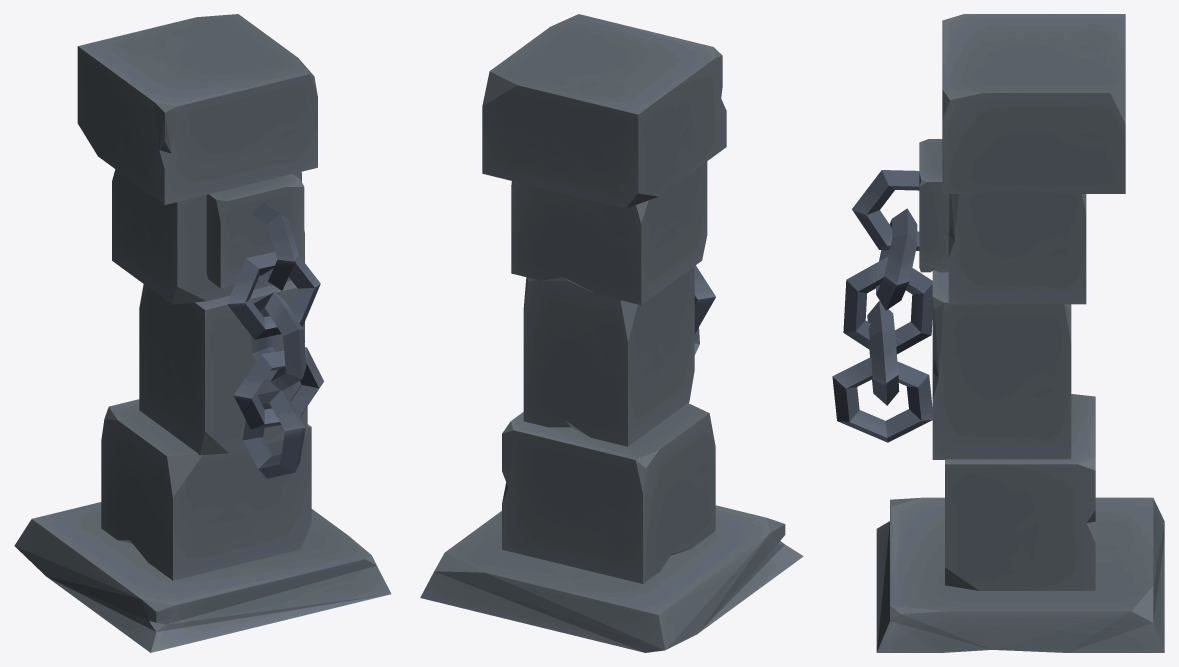
File: Pillar1B-008_02_19_4686.fbx
3 views of the same model, side by side, from view 1: azimuth 30°, elevation 25°; view 2: azimuth 150°, elevation 25°; view 3: azimuth 270°, elevation 25° (orthographic). The views are drawn at different scales.
Visible parts, largest first — view 1: 1B_Pillar, ChainLink (1), ChainLink (4), ChainLink (3), ChainLink (2), ChainLink; view 2: 1B_Pillar, ChainLink (3); view 3: 1B_Pillar, ChainLink (4), ChainLink (2), ChainLink, ChainLink (1), ChainLink (3).
Boxes of the visible parts, x1,y1,x2,y2 form: 1B_Pillar: (14, 14, 391, 652); ChainLink (1): (227, 252, 320, 339); ChainLink (4): (242, 390, 305, 478); ChainLink (3): (233, 347, 323, 429); ChainLink (2): (250, 292, 306, 390); ChainLink: (252, 202, 298, 290); 1B_Pillar: (420, 14, 803, 652); ChainLink (3): (694, 265, 715, 333); 1B_Pillar: (876, 14, 1164, 652); ChainLink (4): (832, 357, 932, 442); ChainLink (2): (843, 256, 932, 354); ChainLink: (852, 170, 919, 250); ChainLink (1): (876, 208, 917, 310); ChainLink (3): (867, 301, 899, 405).
Size of the model in its own units: 2.06 by 4.16 by 2.33.
